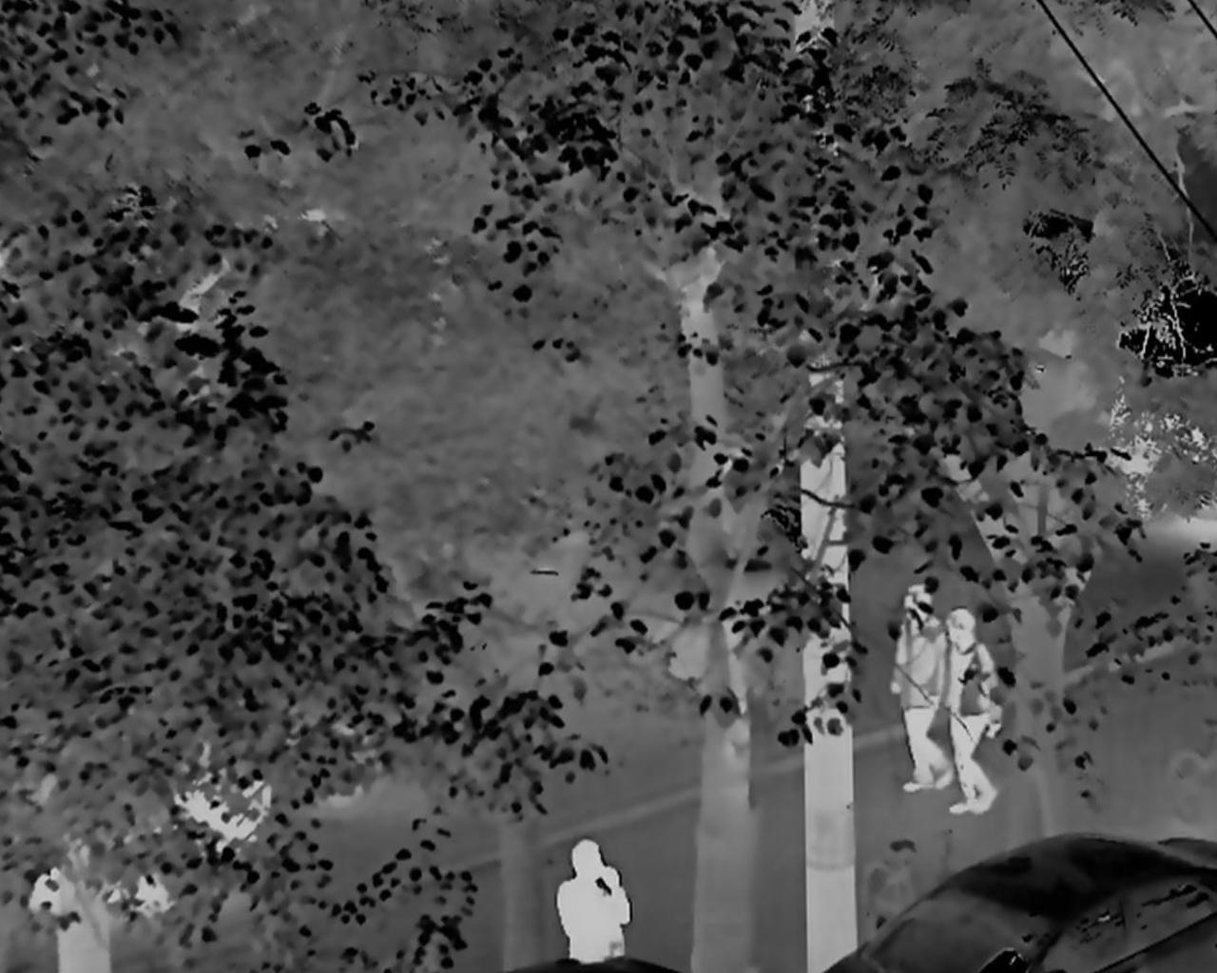person: (891, 582, 955, 793), (943, 613, 1003, 813), (555, 835, 635, 973)
